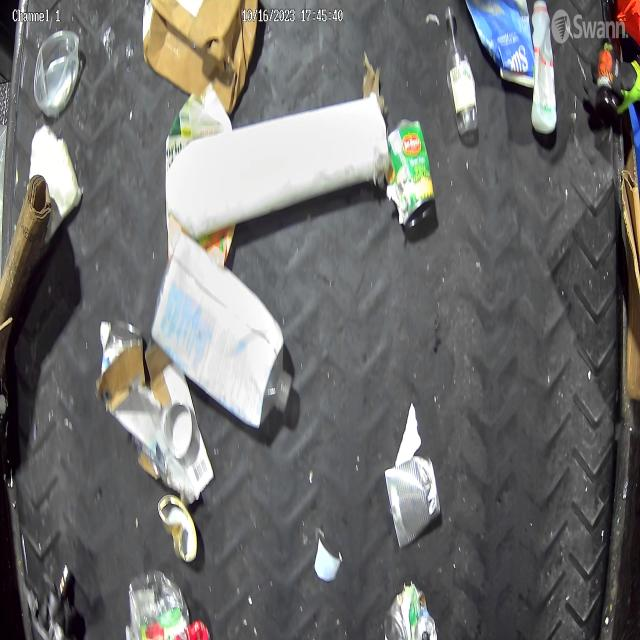can: (388, 114, 438, 231), (384, 457, 443, 550), (382, 584, 438, 640)
milk_jug: (148, 227, 297, 437)
plastic_bottle: (443, 3, 481, 143), (528, 2, 560, 144)
